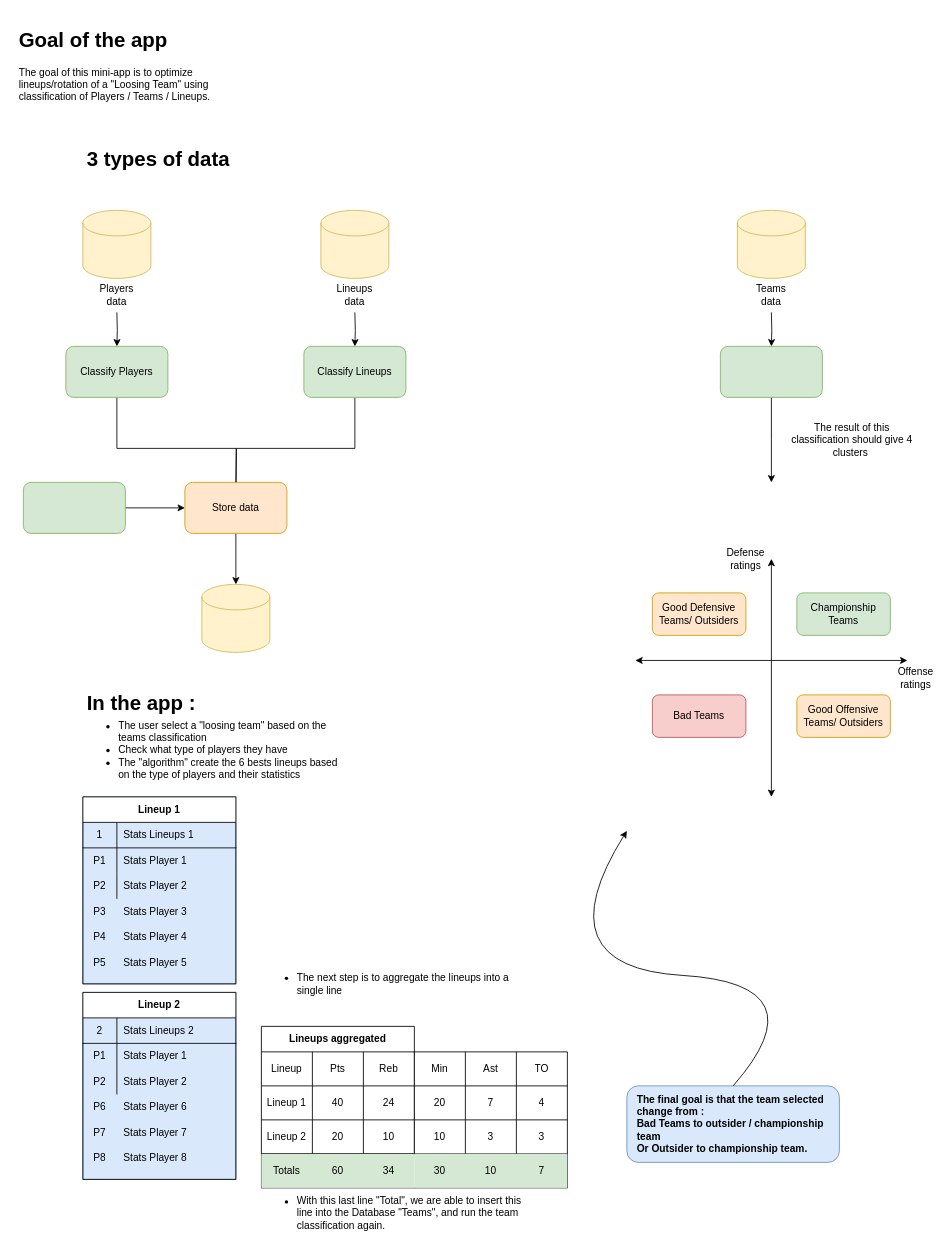
This 948x1256 diagram has some shape labels left out. Here are the shapes that lost their labels. From the top down, the centre of each, then its label:
pixel 771 371: Classify Teams
pixel 74 507: Check what type of players are in the bests/worst lineups
pixel 235 618: SQLite3
